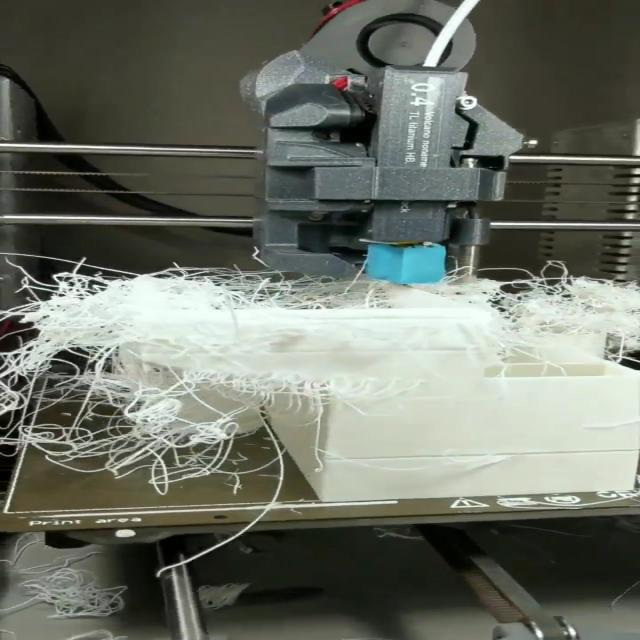spaghetti: (6, 242, 640, 503), (0, 560, 160, 622)
